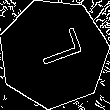L_W: (25, 30, 82, 77)
